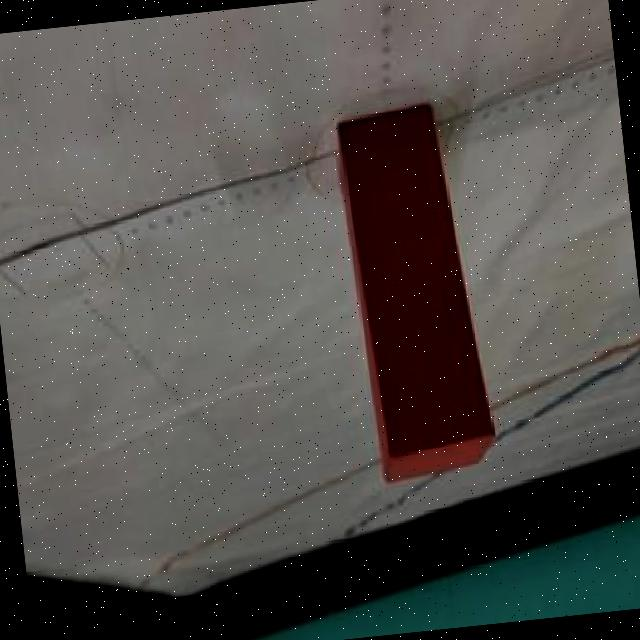redbox: (333, 100, 498, 484)
